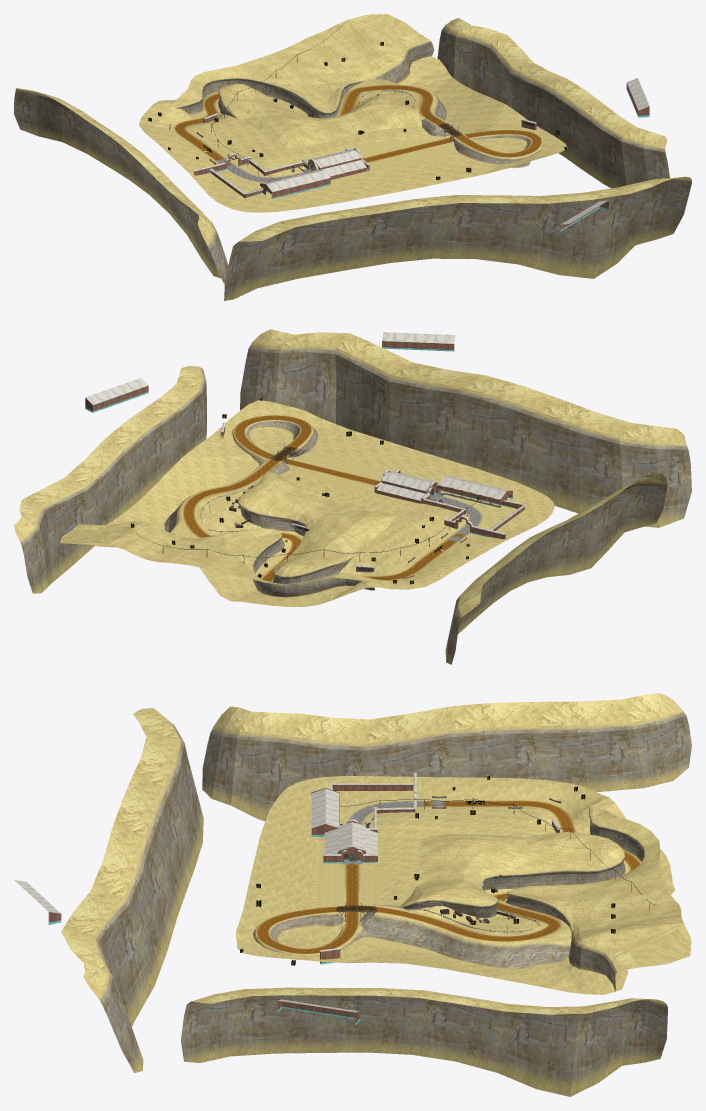
Rendered from track.glb.
3 renders of one model, top to bottom at view 1: azimuth 30°, elevation 25°; view 2: azimuth 150°, elevation 25°; view 3: azimuth 270°, elevation 25°, orthographic. The views are drawn at different scales.
Parts seen in each view (by area): view 1: mesh_3, mesh_35, mesh_27, mesh_23, mesh_24; view 2: mesh_3, mesh_35, mesh_27, mesh_23, mesh_24; view 3: mesh_3, mesh_35, mesh_23, mesh_27, mesh_24.
Part boxes in pixels (x1,y1,x2,y2): mesh_3: (14,25,691,300); mesh_35: (15,14,691,243); mesh_27: (169,78,649,231); mesh_23: (172,84,542,163); mesh_24: (227,163,303,182); mesh_3: (19,342,691,664); mesh_35: (14,329,685,616); mesh_27: (85,332,526,578); mesh_23: (182,415,460,597); mesh_24: (436,495,484,535); mesh_3: (93,709,691,1096); mesh_35: (61,693,691,1014); mesh_23: (255,798,641,954); mesh_27: (14,772,561,1025); mesh_24: (345,799,424,825).
Bounding box in the file's own units: 580 × 132 × 562.
Materials: 34 (34 with a texture image).
